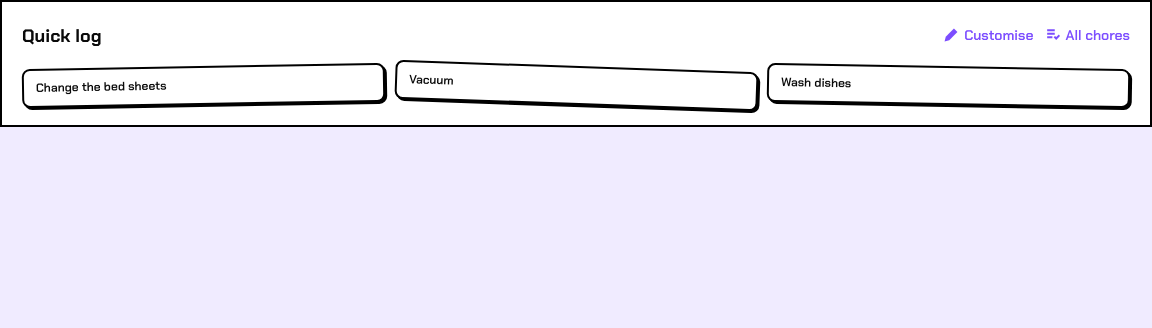
Test: choosing what is on the wall › says the choice is shared
Check: the button "Wash dishes" is shown, box [767,63,1130,108]
Click the button "Customise". click: x=989, y=35
box: [944,25,1034,45]
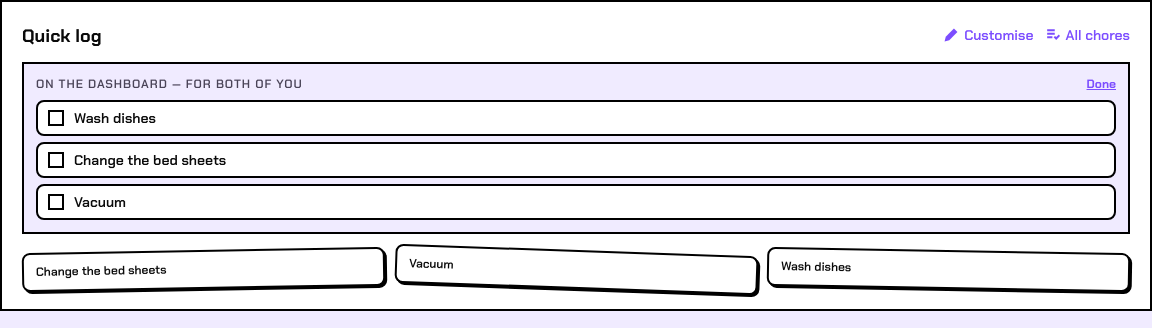
Check: the text "On the dashboard — for both of you" is shown, box [36,76,303,92]
